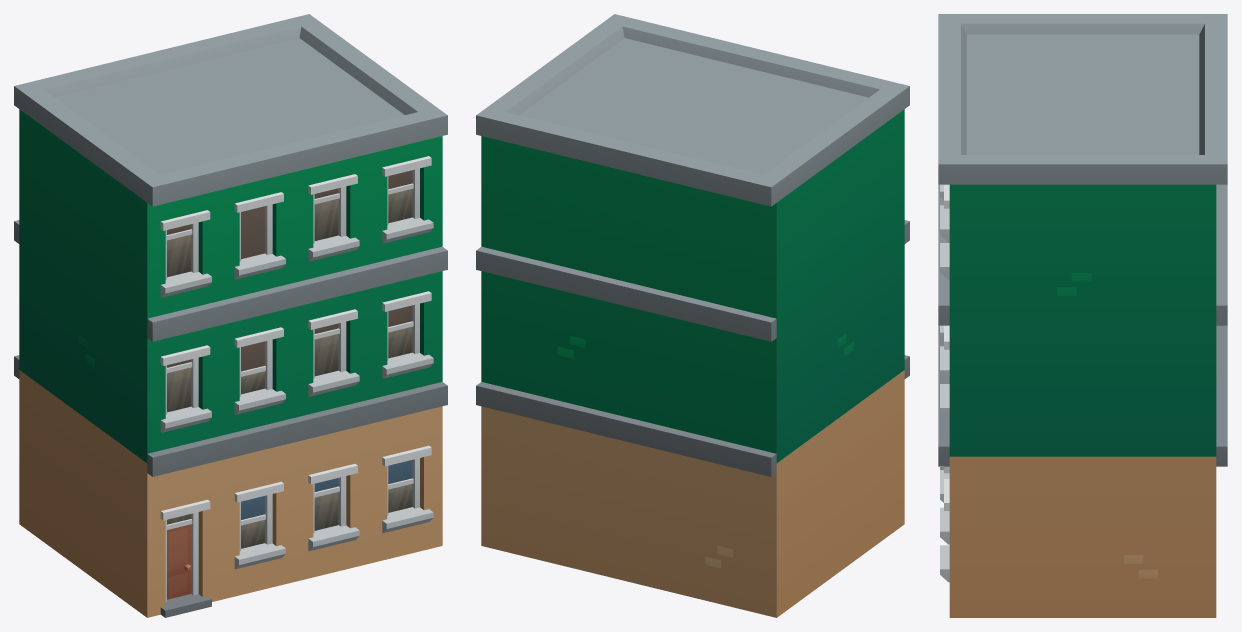
The model's file is building_D_withoutBase.obj.
3 views of the same model, side by side, from view 1: azimuth 30°, elevation 25°; view 2: azimuth 150°, elevation 25°; view 3: azimuth 270°, elevation 25° (orthographic). The views are drawn at different scales.
Bounding box in the file's own units: 1.61 × 2.25 × 1.3.
1 material, 1 textured.
